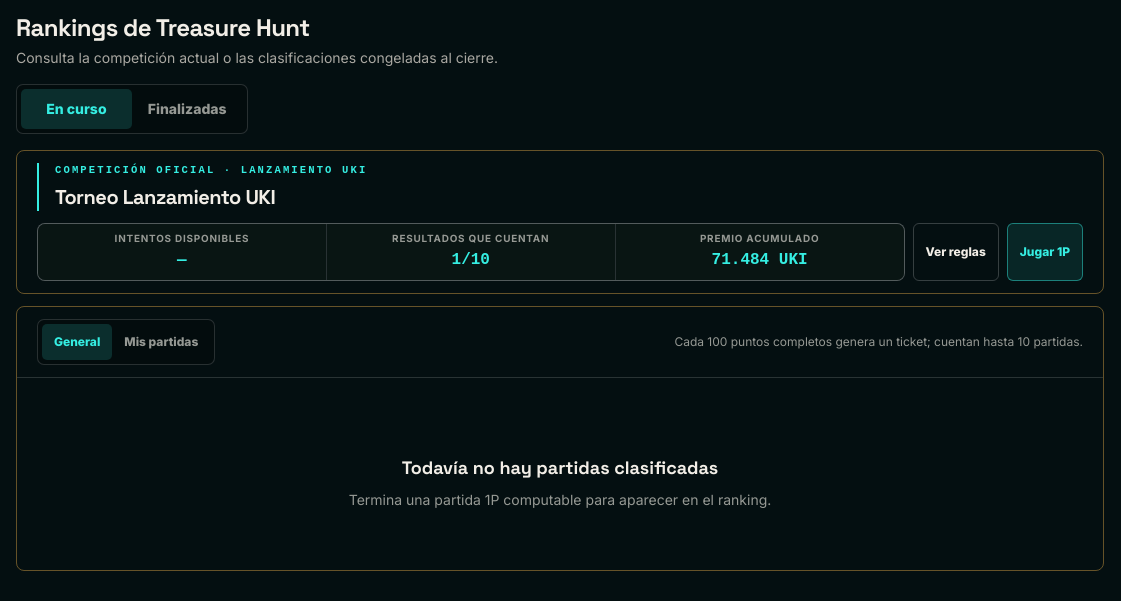
Scenario: histórico de Rankings de Treasure Hunt › distingue resultados finales de una clasificación provisional
Click the button "Finalizadas". click: (187, 109)
box: [132,89,243,129]
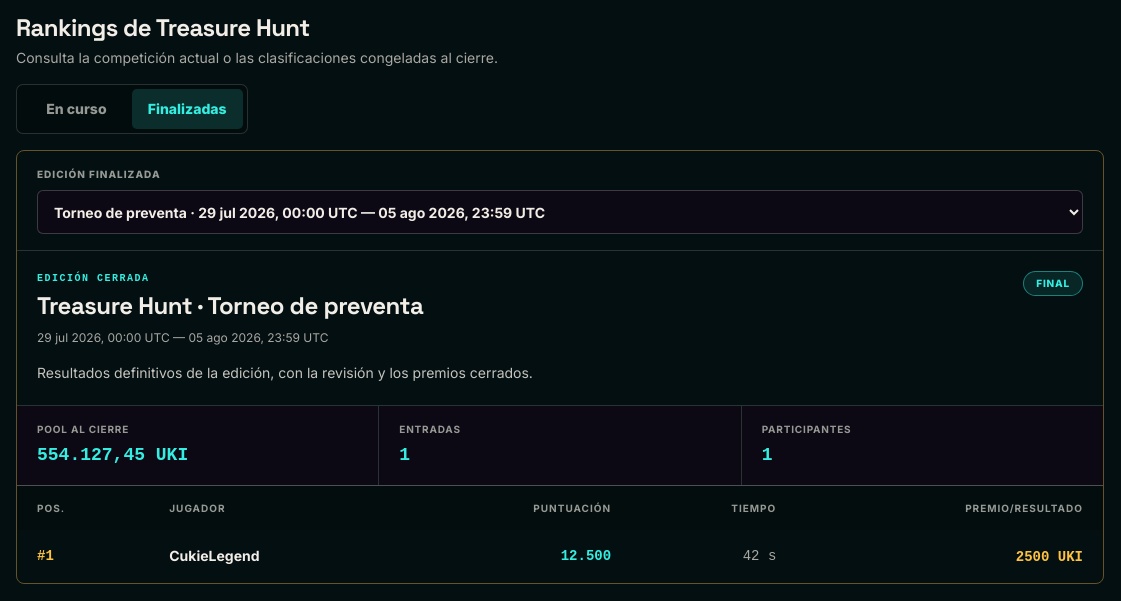
Result: the text "Final" is shown at [1023,271,1083,296]
Result: the text "Resultados definitivos de la edición" is shown at [37,364,533,381]
